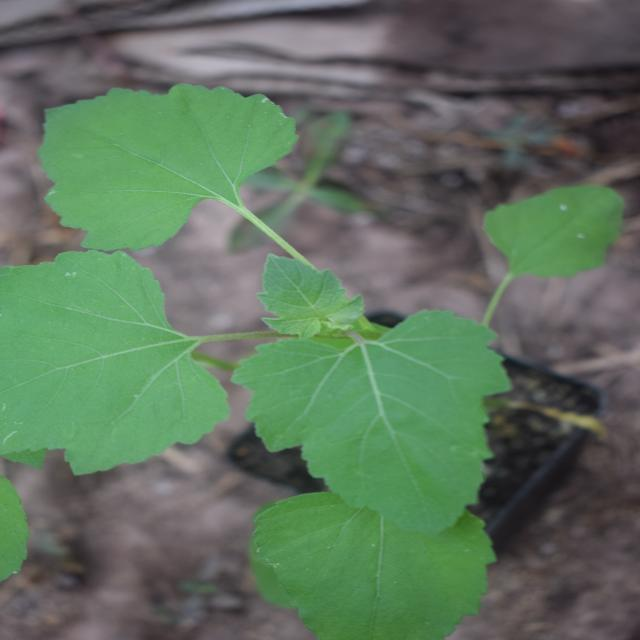cocklebur: (25, 0, 575, 577)
